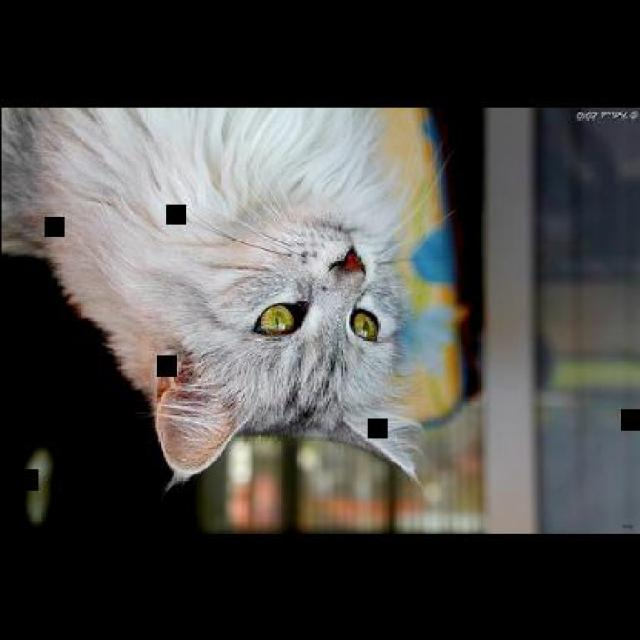unauthorized: (0, 106, 452, 495)
